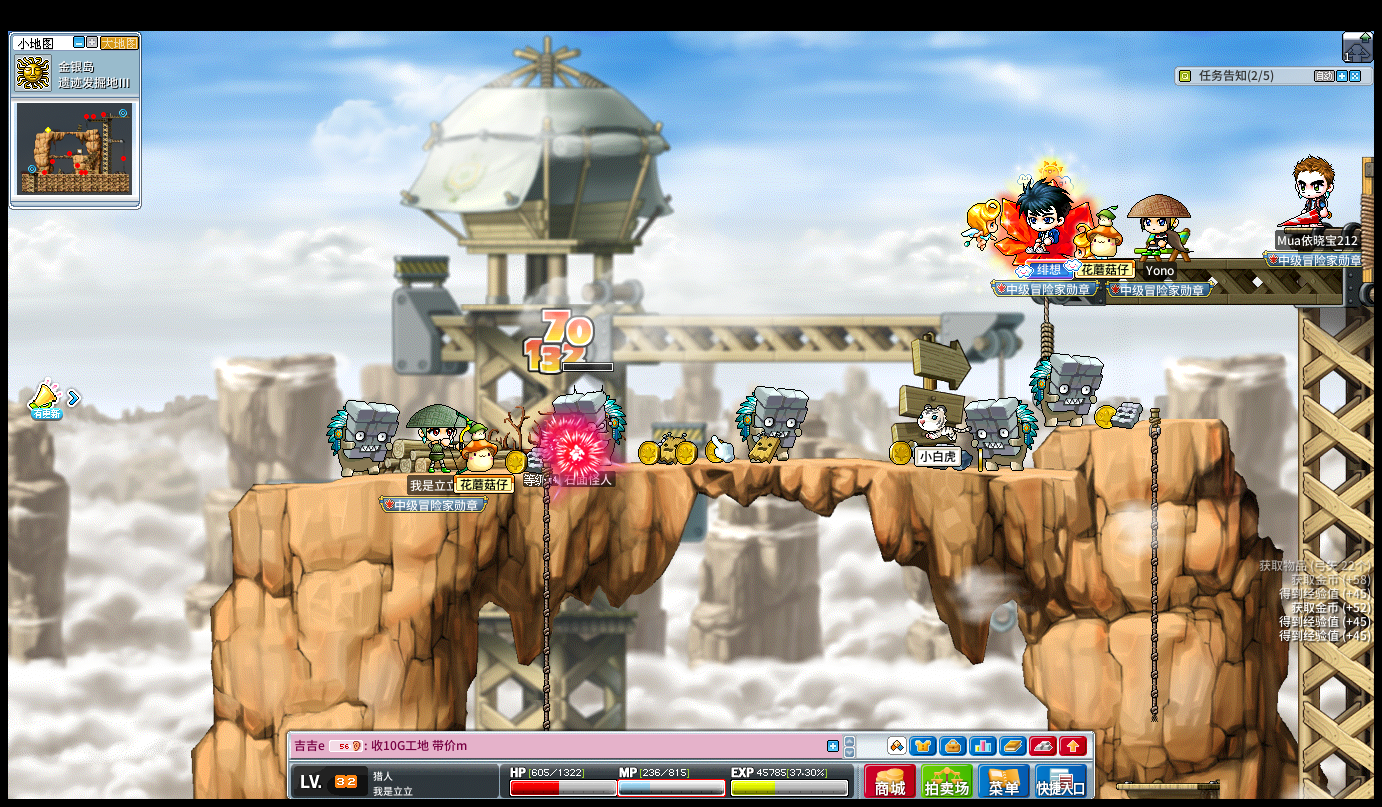floor: (210, 454, 1132, 479), (545, 455, 1061, 472), (1059, 414, 1227, 431)
monster: (551, 389, 627, 465), (1030, 352, 1104, 430), (325, 400, 399, 478), (735, 385, 809, 462), (967, 396, 1036, 472)
rope: (1146, 406, 1161, 725), (538, 453, 552, 753), (539, 461, 552, 691)
